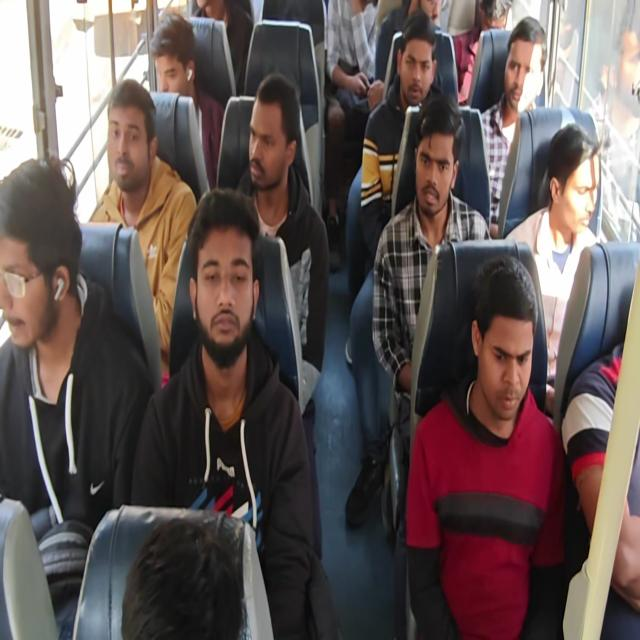person: (1, 1, 638, 638), (128, 186, 340, 638), (0, 156, 153, 638), (371, 94, 492, 637), (405, 254, 566, 638), (344, 11, 445, 527), (234, 72, 330, 559), (88, 78, 198, 386), (504, 122, 605, 414), (561, 339, 640, 614), (359, 11, 443, 260), (323, 0, 384, 265), (120, 515, 250, 639), (479, 15, 547, 236), (149, 11, 224, 190), (452, 0, 512, 106), (374, 0, 442, 93), (192, 0, 253, 95)
